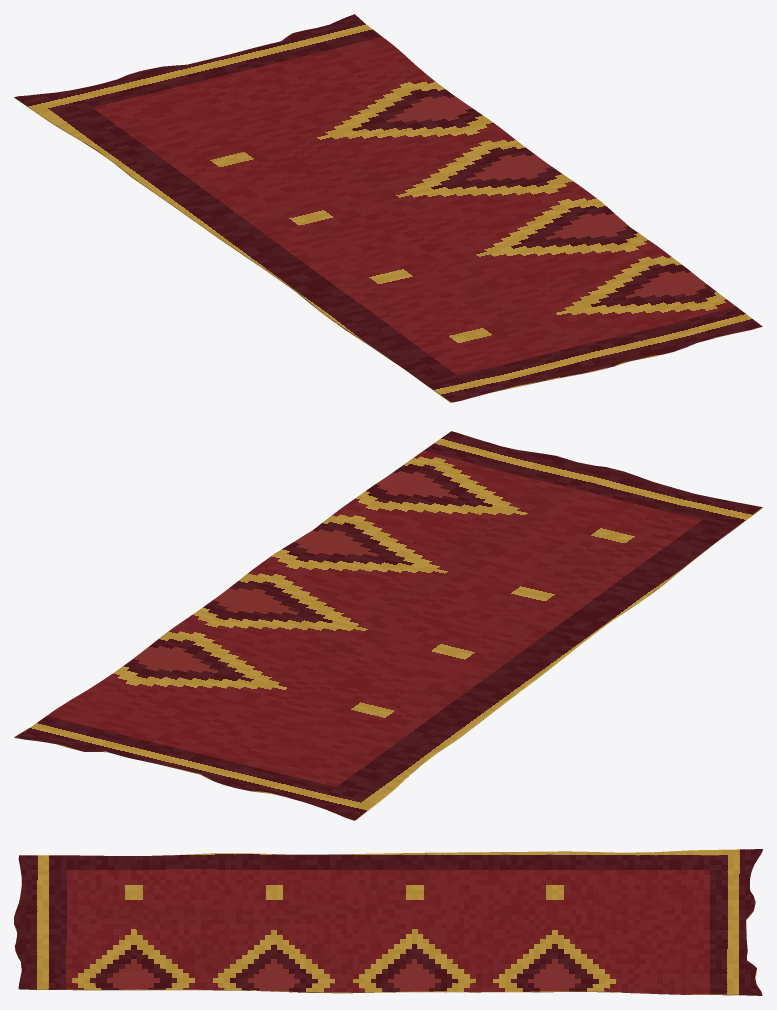
Rendered from SM_cenario_tapetecorredor_com_textura.glb.
3 renders of one model, top to bottom at view 1: azimuth 30°, elevation 25°; view 2: azimuth 150°, elevation 25°; view 3: azimuth 270°, elevation 25°, orthographic. The views are drawn at different scales.
Parts seen in each view (by area): view 1: mesh_node.001; view 2: mesh_node.001; view 3: mesh_node.001.
Part boxes in pixels (x1,y1,x2,y2): mesh_node.001: (14,14,762,402); mesh_node.001: (14,431,762,820); mesh_node.001: (14,849,762,995).
Size of the model in its own units: 3.61 by 0.04 by 7.79.
Materials: 1 (1 with a texture image).
